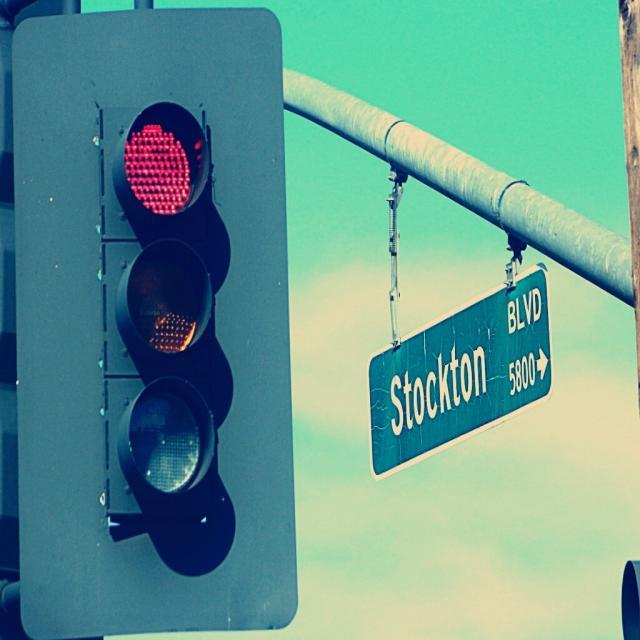traffic light: (95, 93, 220, 518)
